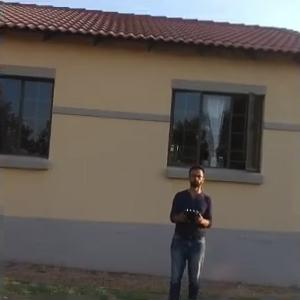follow: (164, 157, 216, 298)
